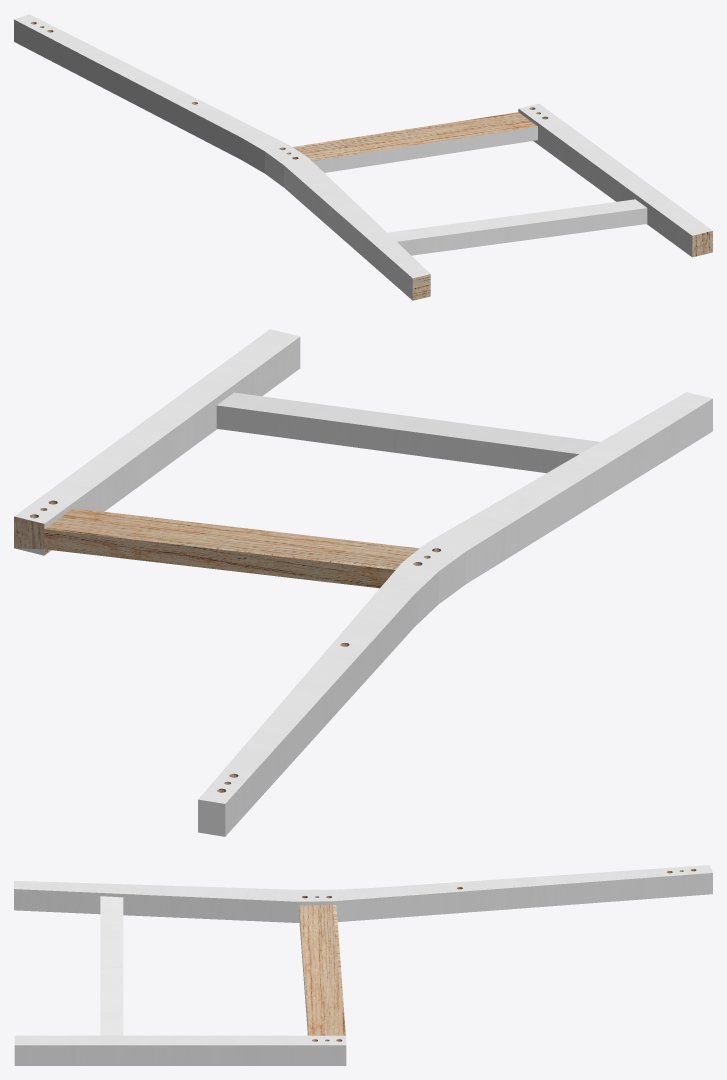
Rendered from Ikea_stefan_side_left.obj.
The picture shows the model from 3 angles, top to bottom: view 1: azimuth 30°, elevation 25°; view 2: azimuth 150°, elevation 25°; view 3: azimuth 270°, elevation 25°; orthographic projection. The views are drawn at different scales.
Visible parts, largest first — view 1: Ikea_Stefan_Side_Right; view 2: Ikea_Stefan_Side_Right; view 3: Ikea_Stefan_Side_Right.
Part boxes in pixels (<box>): Ikea_Stefan_Side_Right: <box>14,14,712,300</box>; Ikea_Stefan_Side_Right: <box>14,329,712,836</box>; Ikea_Stefan_Side_Right: <box>14,865,712,1065</box>.
Bounding box in the file's own units: 0.4852 × 0.066 × 0.9215.
